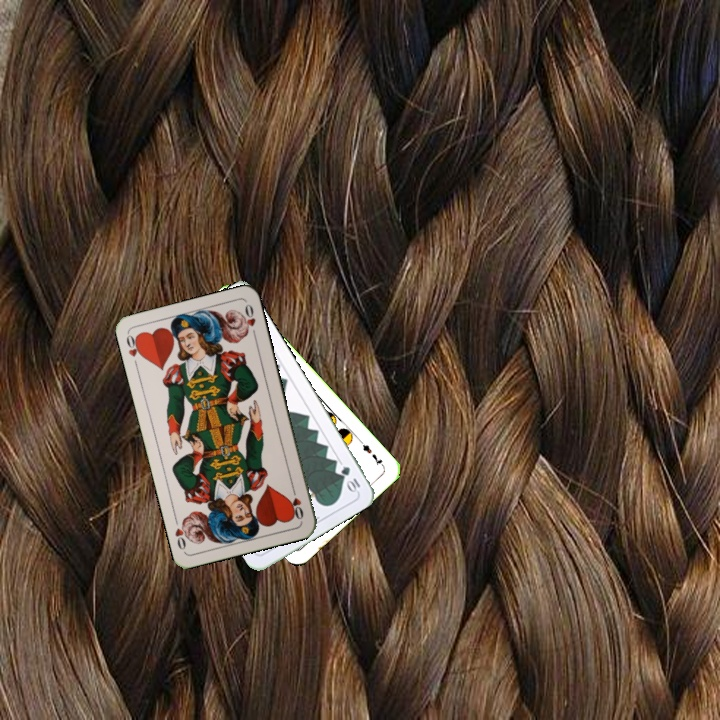E7: (355, 436, 387, 470)
G10: (337, 462, 363, 496)
HO: (122, 330, 145, 370), (287, 483, 306, 522)
